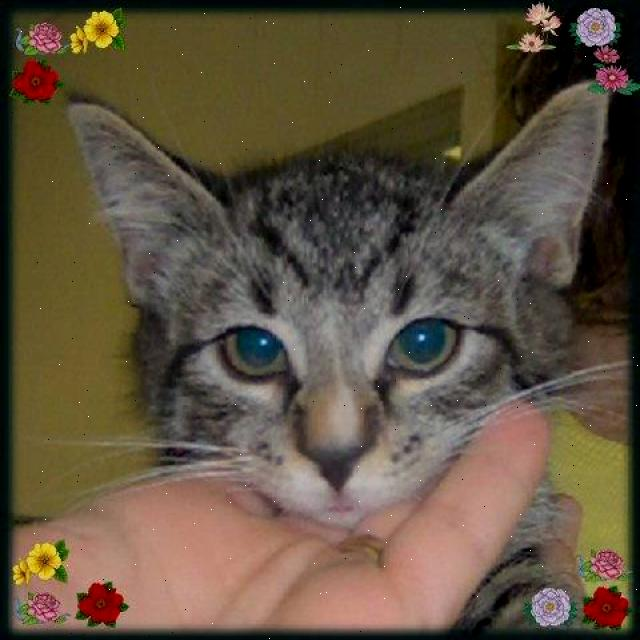cat-eye-normal: (371, 304, 472, 388), (210, 313, 300, 389)
